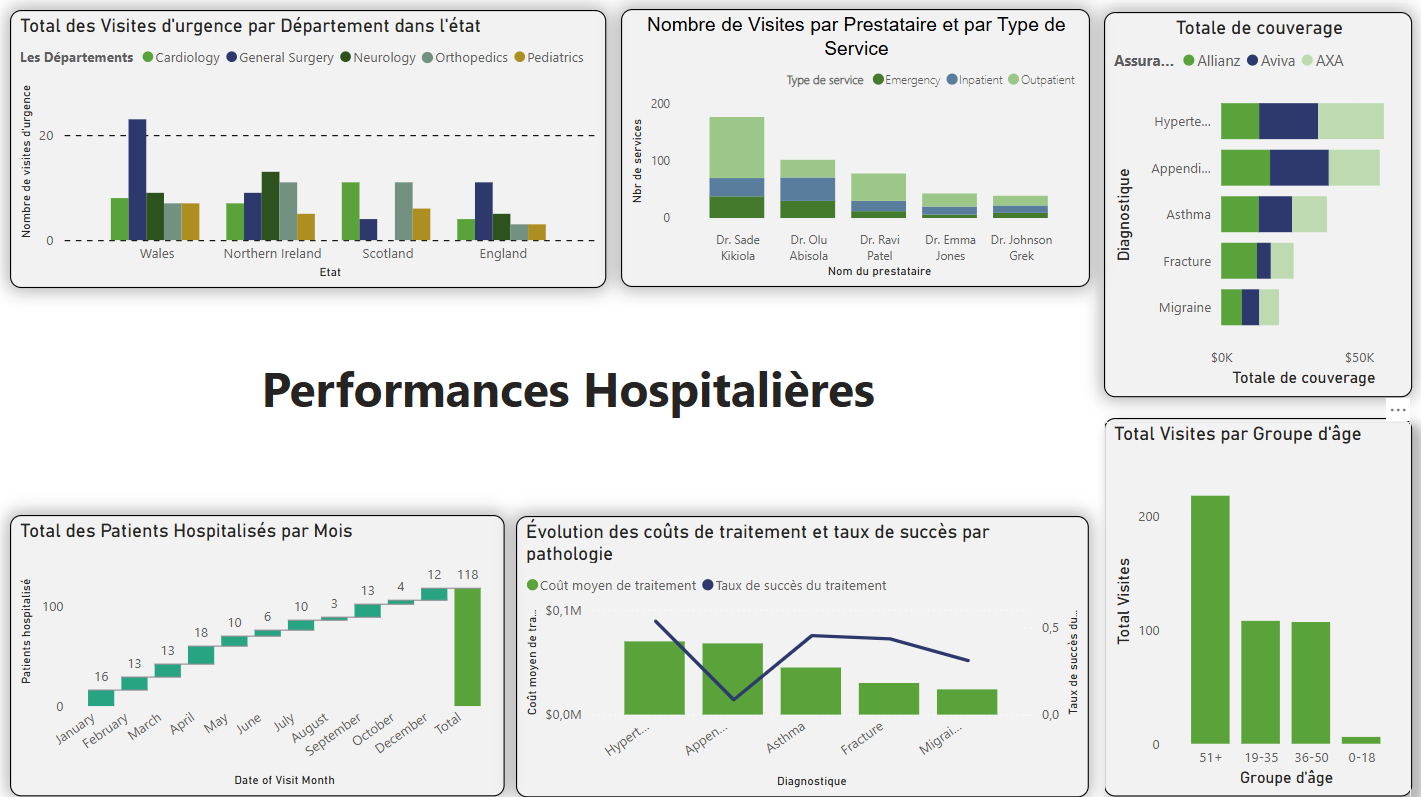

Layout of this report page (visuals, bound fields, positions):
{"tool":"powerbi","page":{"name":"Main","canvas":[1280,720],"ordinal":0},"visuals":[{"type":"waterfallChart","title":"Total des Patients Hospitalisés par Mois","fields":{"Category":["visits.Date of Visit.Variation.Date Hierarchy.Month"],"Y":["visits.Total Inpatient Patients"]},"box":[11.9,465.7,443.3,252.2],"z":0},{"type":"lineStackedColumnComboChart","title":"Évolution des coûts de traitement et taux de succès par pathologie","fields":{"Category":["diagnoses.Diagnosis"],"Y":["visits.Coût moyen de traitement par diagnostic"],"Y2":["visits.Taux de succès du traitement"]},"box":[464.8,466.1,512.6,251.8],"z":1000},{"type":"lineClusteredColumnComboChart","title":"Total des Visites d''urgence par Département dans l''état ","fields":{"Y":["visits.EmergencyVisitsCount"],"Category":["cities.State"],"Series":["departments.Department"]},"box":[11.9,13.4,534.3,249.3],"z":2000},{"type":"barChart","title":"Totale de couverage","fields":{"Y":["visits.Total Coverage par Diagnostic"],"Series":["insurance.Insurance Provider"],"Category":["diagnoses.Diagnosis"]},"box":[991,14.9,276.1,344.8],"z":3000},{"type":"clusteredColumnChart","title":"Total Visites par Groupe d''âge","fields":{"Y":["visits.Total Visits"],"Category":["patients.Age Group"]},"box":[991,379.1,276.1,338.8],"z":4000},{"type":"columnChart","title":"Nombre de Visites par Prestataire et par Type de Service","fields":{"Category":["providers.Provider Name"],"Y":["visits.Service Type"],"Series":["visits.Service Type"]},"box":[559.1,12.9,419.6,249.2],"z":5000},{"type":"textbox","box":[231.8,318.2,600.5,83.5],"z":6000},{"type":"actionButton","box":[11.9,14.9,534.3,247.8],"z":7000},{"type":"actionButton","box":[560.4,12.9,419.6,249.2],"z":8000},{"type":"actionButton","box":[992.9,15.5,275,344.7],"z":9000},{"type":"actionButton","box":[10.3,466.1,444.2,251.8],"z":10000},{"type":"actionButton","box":[464.8,464.8,512.6,251.8],"z":11000},{"type":"actionButton","box":[991.6,382.2,275,338.3],"z":12000}]}

Visuals, with their boxes in screenshot pixels (x1, y1, x2, y2), scaled from the page's 1280x720 canvas onto the 1421x797 screenshot:
"Total des Patients Hospitalisés par Mois" waterfallChart: <region>13, 516, 505, 795</region>
"Évolution des coûts de traitement et taux de succès par pathologie" lineStackedColumnComboChart: <region>516, 516, 1085, 795</region>
"Total des Visites d''urgence par Département dans l''état " lineClusteredColumnComboChart: <region>13, 15, 606, 291</region>
"Totale de couverage" barChart: <region>1100, 16, 1407, 398</region>
"Total Visites par Groupe d''âge" clusteredColumnChart: <region>1100, 420, 1407, 795</region>
"Nombre de Visites par Prestataire et par Type de Service" columnChart: <region>621, 14, 1087, 290</region>
textbox: <region>257, 352, 924, 445</region>
actionButton: <region>13, 16, 606, 291</region>
actionButton: <region>622, 14, 1088, 290</region>
actionButton: <region>1102, 17, 1408, 399</region>
actionButton: <region>11, 516, 505, 795</region>
actionButton: <region>516, 515, 1085, 793</region>
actionButton: <region>1101, 423, 1406, 796</region>
